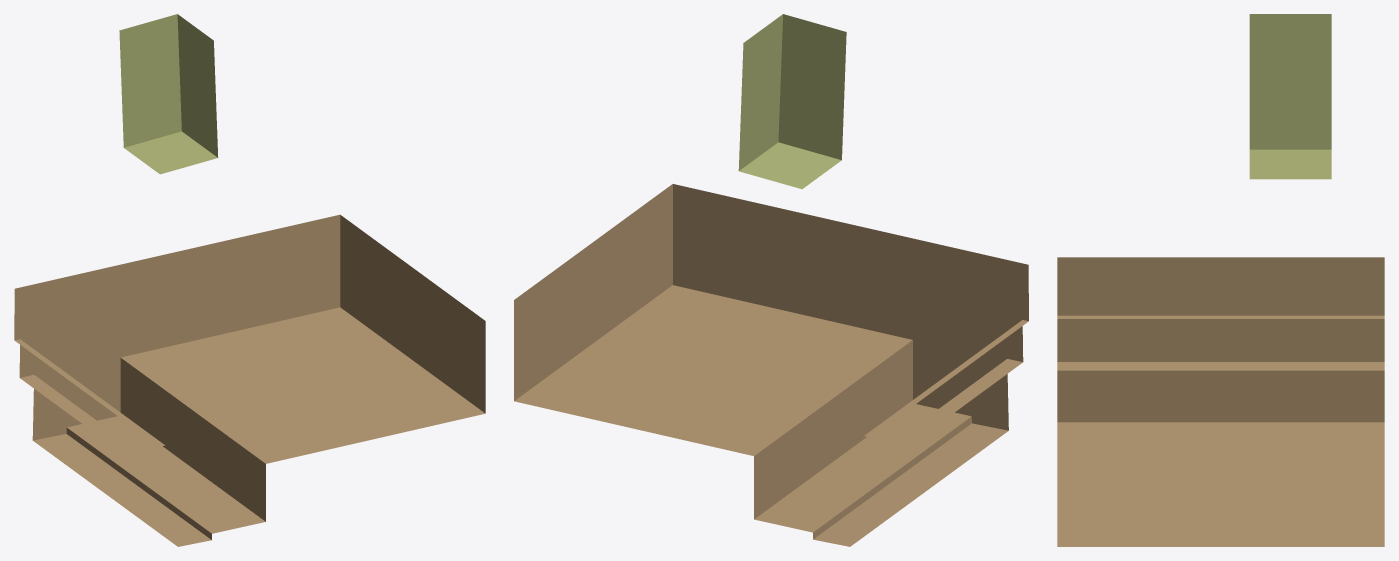
The picture shows the model from 3 angles, left to right: view 1: azimuth 30°, elevation 25°; view 2: azimuth 150°, elevation 25°; view 3: azimuth 270°, elevation 25°; orthographic projection. The views are drawn at different scales.
Visible parts, largest first — view 1: 0_3_2_0_0_1_1_0_2; view 2: 0_3_2_0_0_1_1_0_2; view 3: 0_3_2_0_0_1_1_0_2.
Part boxes in pixels (x1=…): 0_3_2_0_0_1_1_0_2: x1=14, y1=14, x2=485, y2=546; 0_3_2_0_0_1_1_0_2: x1=514, y1=14, x2=1028, y2=546; 0_3_2_0_0_1_1_0_2: x1=1057, y1=14, x2=1384, y2=546.
Bounding box in the file's own units: 31.07 × 37.88 × 24.
